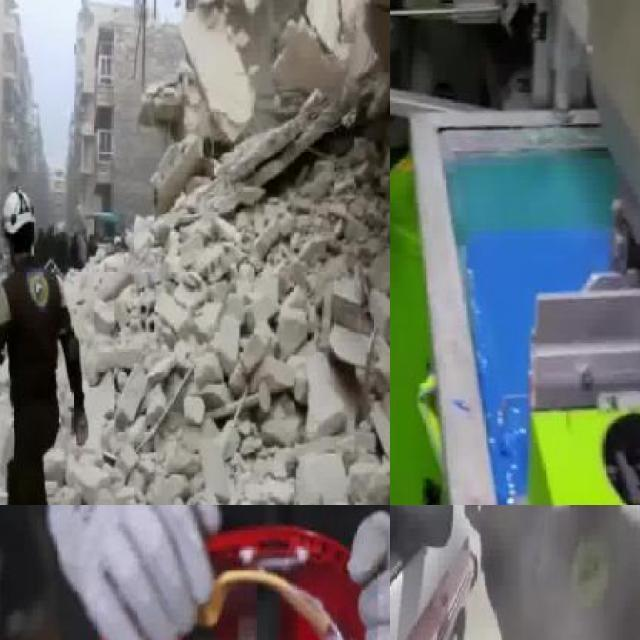apron: (46, 505, 223, 640), (346, 512, 390, 640)
